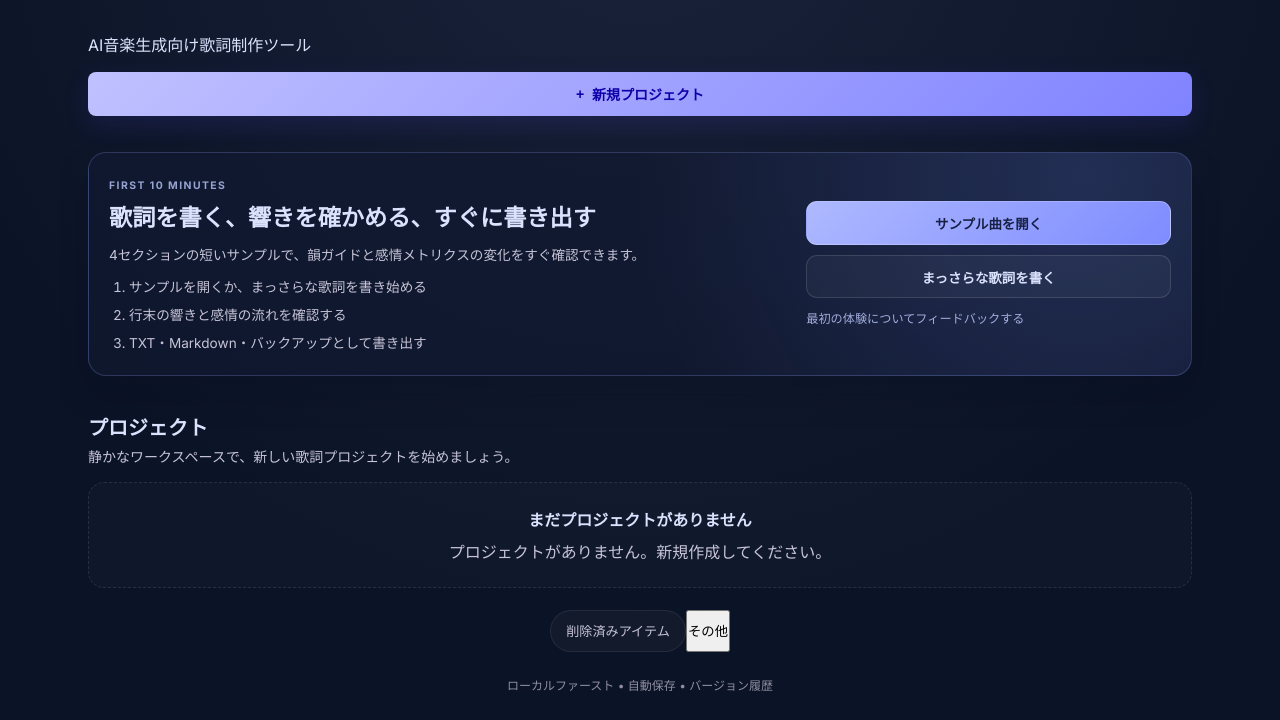
Scenario: Home first session › keeps a deliberate blank-project path beside the sample
Click the button "まっさらな歌詞を書く": click(989, 276) [806,255,1171,298]
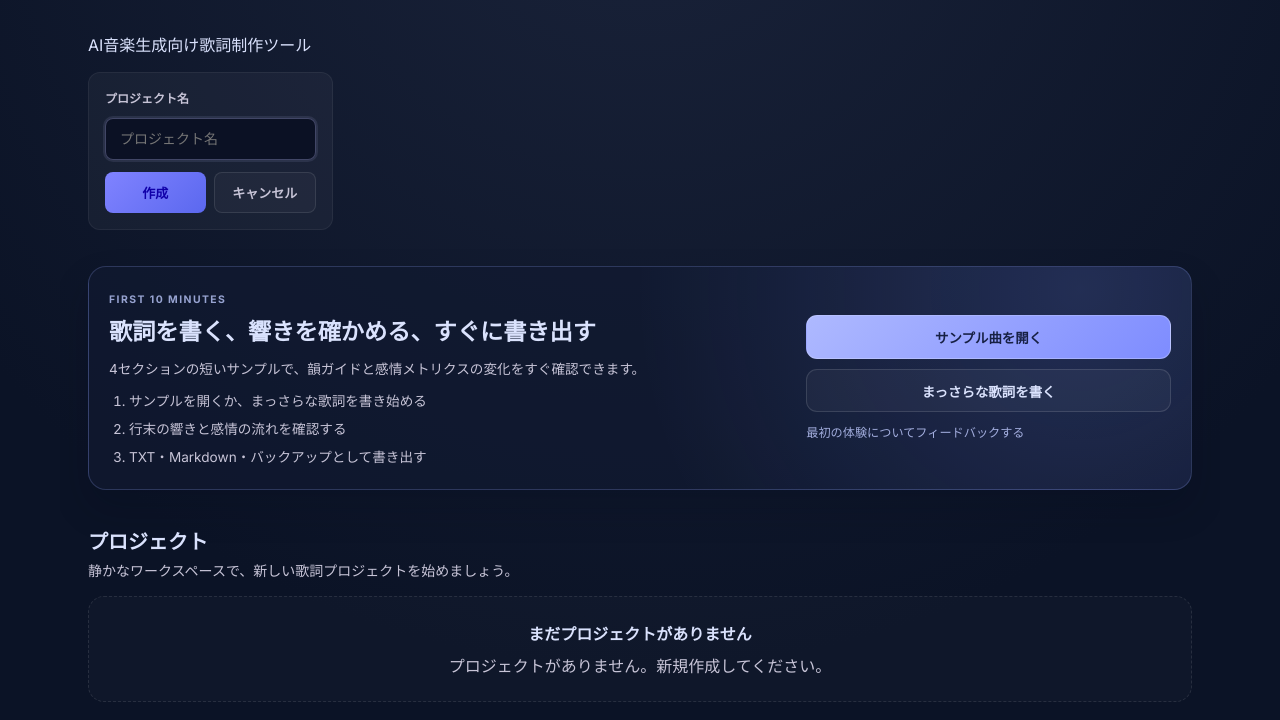
Expected: the field with placeholder "プロジェクト名" is shown, [105,118,316,160]
